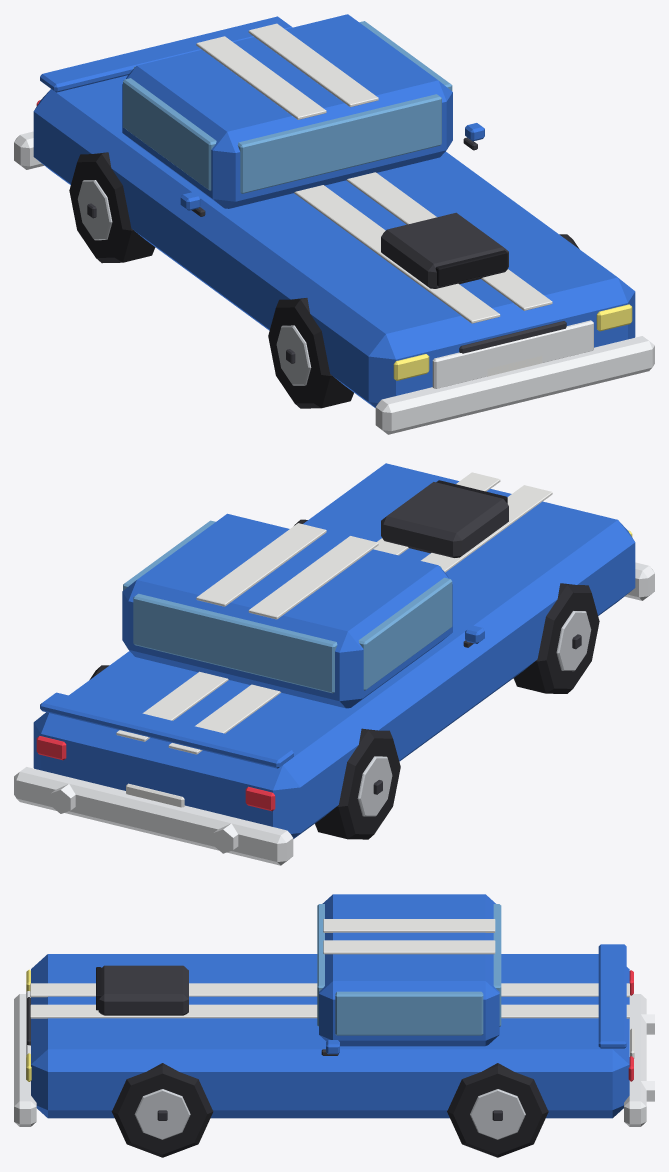
Rendered from BlueMuscleCar.fbx.
The picture shows the model from 3 angles, top to bottom: view 1: azimuth 30°, elevation 25°; view 2: azimuth 150°, elevation 25°; view 3: azimuth 270°, elevation 25°; orthographic projection. The views are drawn at different scales.
Visible parts, largest first — view 1: BlueMuscleCar, BlueMuscleCar_WheelFR, BlueMuscleCar_WheelBR; view 2: BlueMuscleCar, BlueMuscleCar_WheelBR, BlueMuscleCar_WheelFR; view 3: BlueMuscleCar, BlueMuscleCar_WheelBL, BlueMuscleCar_WheelFL.
Boxes of the visible parts, <box> form: BlueMuscleCar: <box>14,14,654,434</box>; BlueMuscleCar_WheelFR: <box>268,298,353,408</box>; BlueMuscleCar_WheelBR: <box>69,152,155,263</box>; BlueMuscleCar: <box>14,463,654,865</box>; BlueMuscleCar_WheelBR: <box>315,728,400,839</box>; BlueMuscleCar_WheelFR: <box>513,583,599,693</box>; BlueMuscleCar: <box>14,894,654,1126</box>; BlueMuscleCar_WheelBL: <box>447,1063,548,1157</box>; BlueMuscleCar_WheelFL: <box>111,1063,213,1157</box>.
Size of the model in its own units: 5.15 by 3.28 by 11.35.
1 material, 1 textured.
